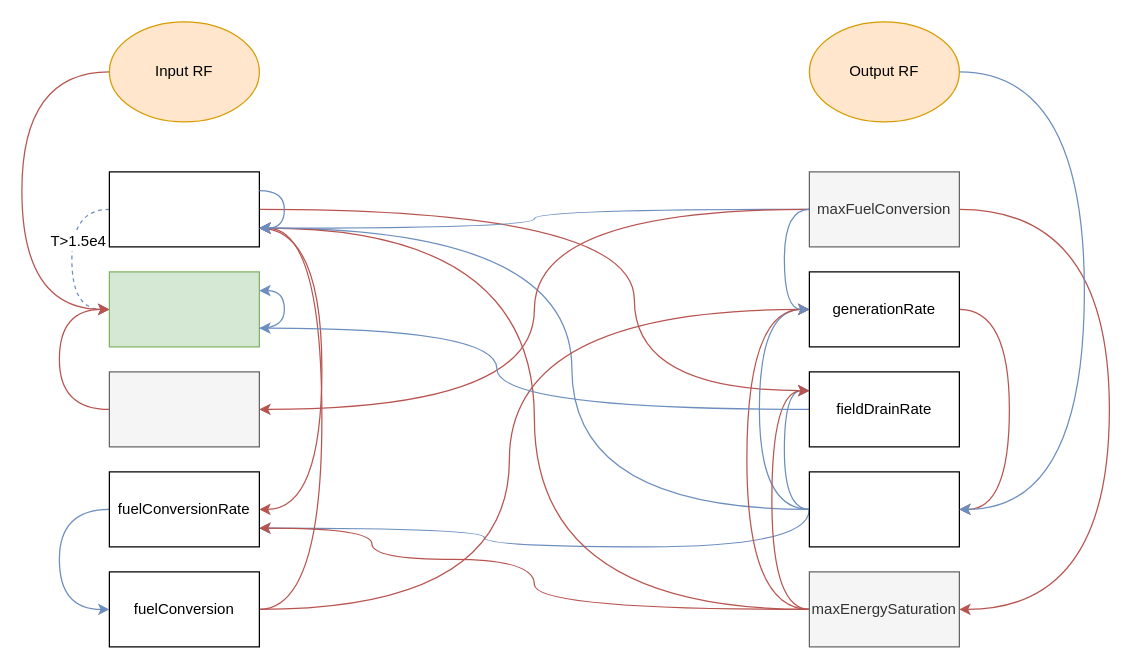
The diagram is 1131 pixels wide and 669 high, and some of its shapes have lost their labels. The centre of each missing label's shape, as x and y in pixels:
"energySaturation" belongs at (883,509).
"fieldStrength" belongs at (183,309).
"maxFieldStrength" belongs at (183,409).
"Temperature" belongs at (183,209).
